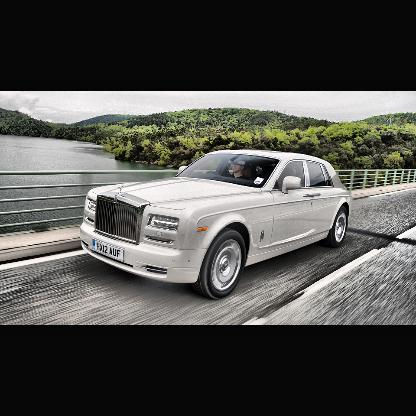Rolls-Royce Ghost Sedan 2012: (81, 151, 354, 301)
